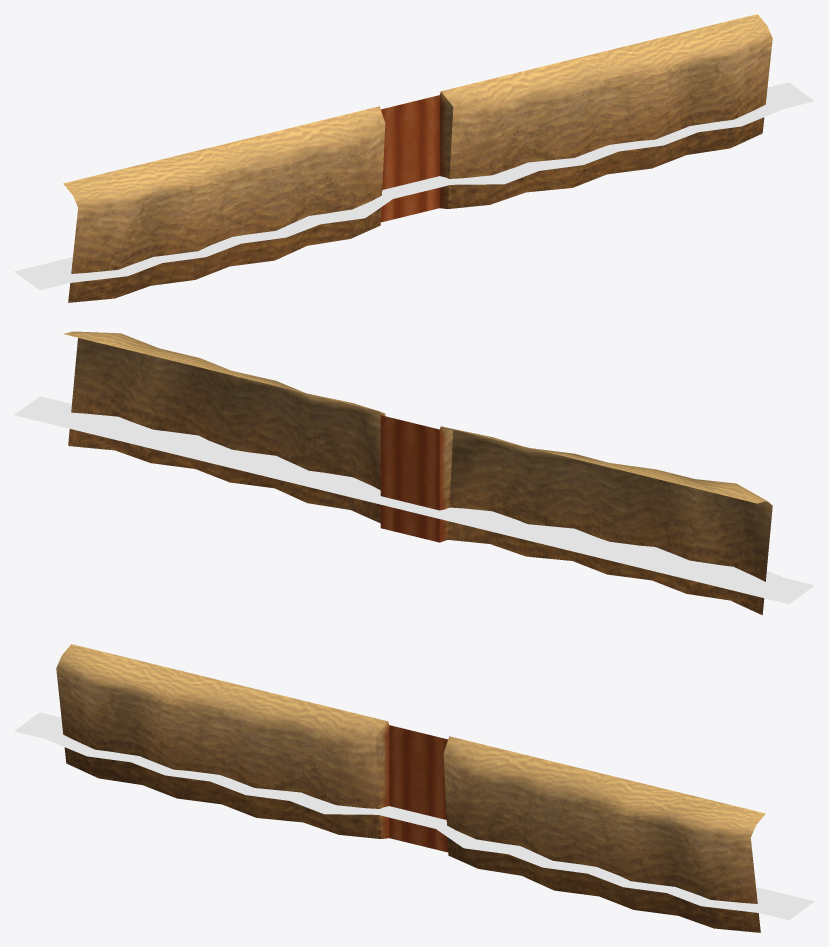
The model's file is Abyss_Rail.FBX.
3 renders of one model, top to bottom at view 1: azimuth 30°, elevation 25°; view 2: azimuth 150°, elevation 25°; view 3: azimuth 330°, elevation 25°, orthographic.
Visible parts, largest first — view 1: Abyss_Rail; view 2: Abyss_Rail; view 3: Abyss_Rail.
Boxes of the visible parts, left/top/right/bottom form: Abyss_Rail: left=14, top=14, right=814, bottom=302; Abyss_Rail: left=14, top=331, right=814, bottom=615; Abyss_Rail: left=14, top=644, right=814, bottom=932.
Size of the model in its own units: 19645 by 2824 by 1467.
